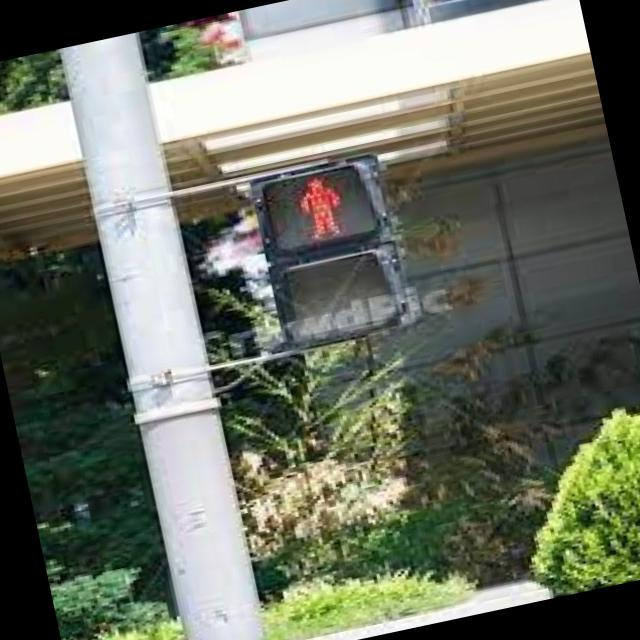red_light: (268, 162, 376, 248)
